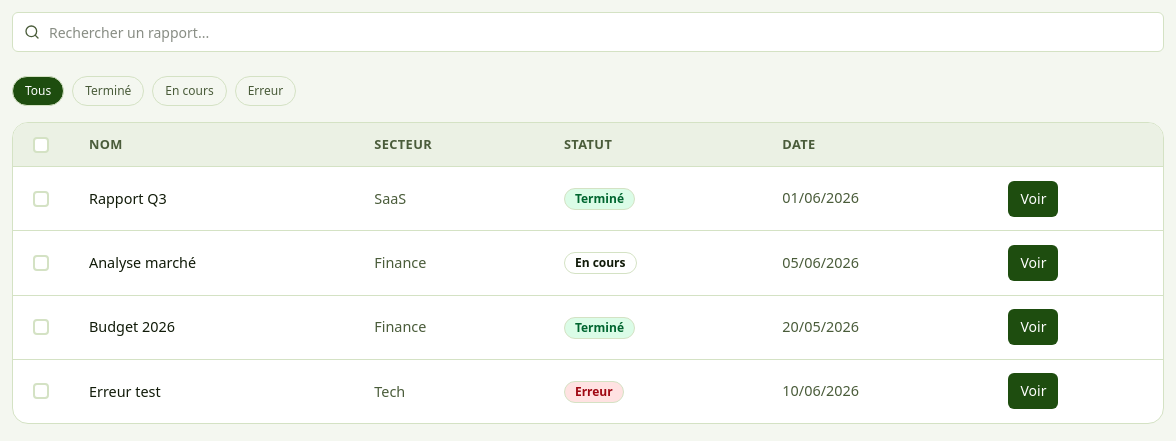
Test: ReportsFilter › filters by status pill — DONE
Click the button "Terminé" at (108, 91), box [72, 76, 144, 106]
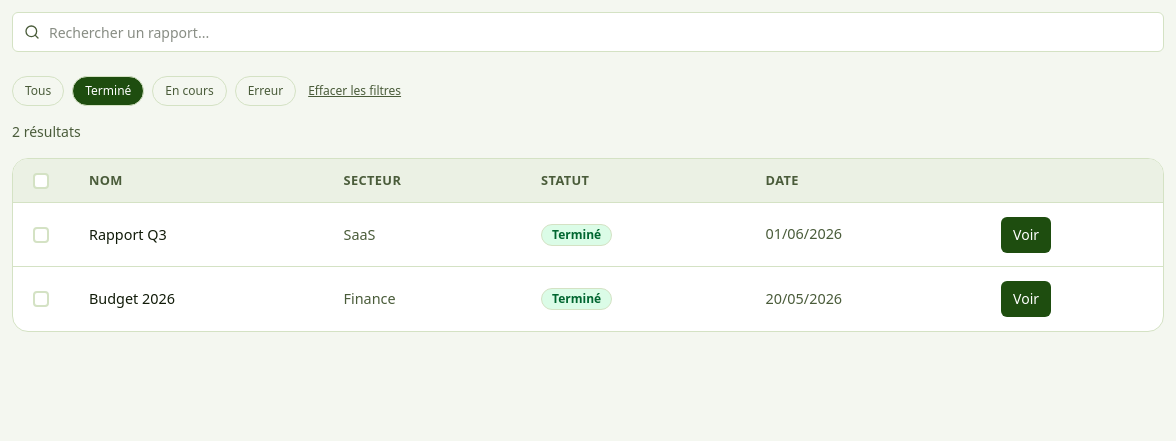
Expected: the text "Rapport Q3" is shown, [69, 203, 324, 267]
Expected: the text "Analyse marché" is gone
Expected: the text "Erreur test" is gone
